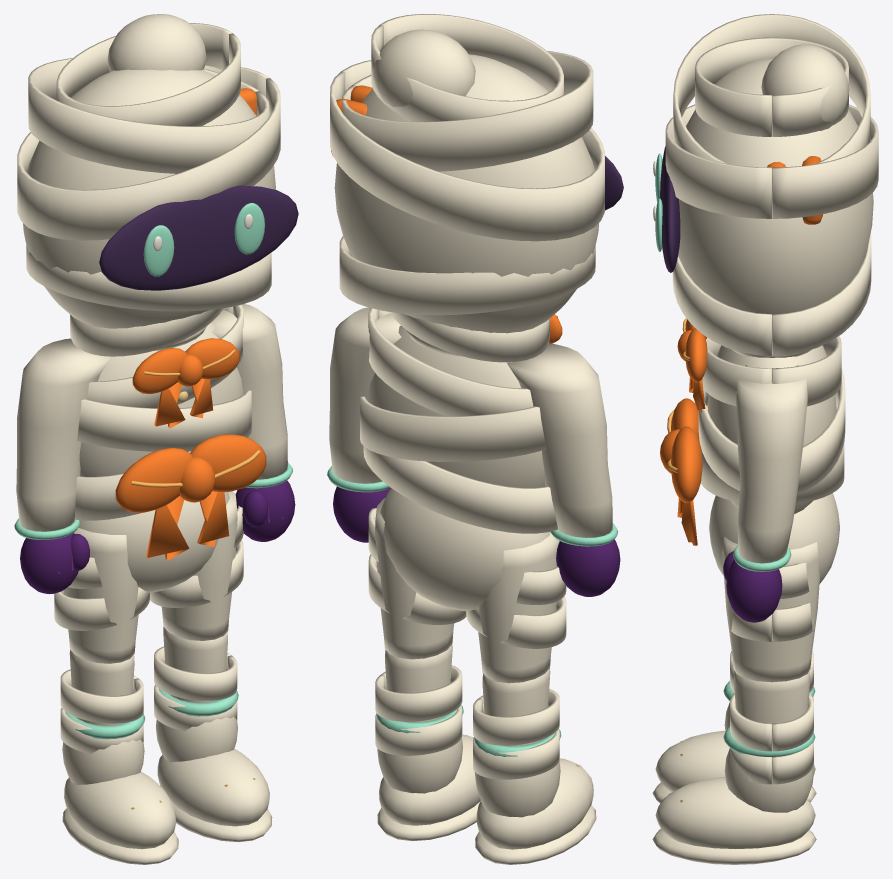
The model's file is A073-NPC05-糖纸木乃伊-精细动作版.glb.
3 renders of one model, left to right at view 1: azimuth 30°, elevation 25°; view 2: azimuth 150°, elevation 25°; view 3: azimuth 270°, elevation 25°, orthographic. The views are drawn at different scales.
Parts seen in each view (by area): view 1: HW_Mesh_Head__cream.004, HW_Mesh_RightFoot__cream.004, HW_Mesh_Chest__cream.004, HW_Mesh_LeftFoot__cream.004, HW_Mesh_Head__night.004, HW_Mesh_Hips__orange.004, HW_Mesh_RightUpperLeg__cream.004, HW_Mesh_RightUpperArm__cream.004, HW_Mesh_LeftUpperLeg__cream.004, HW_Mesh_Chest__orange.004, HW_Mesh_Hips__cream.004, HW_Mesh_LeftUpperArm__cream.004 (+10 smaller); view 2: HW_Mesh_Head__cream.004, HW_Mesh_Chest__cream.004, HW_Mesh_RightFoot__cream.004, HW_Mesh_LeftFoot__cream.004, HW_Mesh_Hips__cream.004, HW_Mesh_RightUpperLeg__cream.004, HW_Mesh_RightUpperArm__cream.004, HW_Mesh_LeftUpperLeg__cream.004, HW_Mesh_LeftUpperArm__cream.004, HW_Mesh_RightLowerArm__cream.004, HW_Mesh_RightHand__purple.003, HW_Mesh_LeftLowerLeg__cream.004 (+8 smaller); view 3: HW_Mesh_Head__cream.004, HW_Mesh_LeftFoot__cream.004, HW_Mesh_Chest__cream.004, HW_Mesh_LeftUpperLeg__cream.004, HW_Mesh_LeftUpperArm__cream.004, HW_Mesh_Hips__cream.004, HW_Mesh_RightFoot__cream.004, HW_Mesh_Hips__orange.004, HW_Mesh_LeftLowerArm__cream.004, HW_Mesh_LeftLowerLeg__cream.004, HW_Mesh_LeftHand__purple.003, HW_Mesh_Head__night.004 (+4 smaller).
Part boxes in pixels (<box>): HW_Mesh_Head__cream.004: <box>17,14,280,356</box>; HW_Mesh_RightFoot__cream.004: <box>60,669,178,864</box>; HW_Mesh_Chest__cream.004: <box>74,304,251,520</box>; HW_Mesh_LeftFoot__cream.004: <box>154,646,272,842</box>; HW_Mesh_Head__night.004: <box>99,185,298,290</box>; HW_Mesh_Hips__orange.004: <box>115,434,266,560</box>; HW_Mesh_RightUpperLeg__cream.004: <box>54,528,149,663</box>; HW_Mesh_RightUpperArm__cream.004: <box>17,338,111,465</box>; HW_Mesh_LeftUpperLeg__cream.004: <box>150,491,243,640</box>; HW_Mesh_Chest__orange.004: <box>132,338,239,428</box>; HW_Mesh_Hips__cream.004: <box>78,492,229,592</box>; HW_Mesh_LeftUpperArm__cream.004: <box>212,304,283,416</box>; HW_Mesh_Head__cream.004: <box>330,14,604,362</box>; HW_Mesh_Chest__cream.004: <box>360,308,557,533</box>; HW_Mesh_RightFoot__cream.004: <box>473,689,596,864</box>; HW_Mesh_LeftFoot__cream.004: <box>375,665,480,840</box>; HW_Mesh_Hips__cream.004: <box>380,488,550,611</box>; HW_Mesh_RightUpperLeg__cream.004: <box>466,532,566,683</box>; HW_Mesh_RightUpperArm__cream.004: <box>507,343,607,474</box>; HW_Mesh_LeftUpperLeg__cream.004: <box>368,498,466,659</box>; HW_Mesh_LeftUpperArm__cream.004: <box>330,307,401,422</box>; HW_Mesh_RightLowerArm__cream.004: <box>544,464,612,537</box>; HW_Mesh_RightHand__purple.003: <box>556,539,620,596</box>; HW_Mesh_LeftLowerLeg__cream.004: <box>385,644,452,722</box>; HW_Mesh_Head__cream.004: <box>665,14,878,356</box>; HW_Mesh_LeftFoot__cream.004: <box>652,693,816,864</box>; HW_Mesh_Chest__cream.004: <box>698,336,845,513</box>; HW_Mesh_LeftUpperLeg__cream.004: <box>722,537,820,682</box>; HW_Mesh_LeftUpperArm__cream.004: <box>736,365,807,497</box>; HW_Mesh_Hips__cream.004: <box>709,493,839,583</box>; HW_Mesh_RightFoot__cream.004: <box>652,651,816,803</box>; HW_Mesh_Hips__orange.004: <box>660,398,702,545</box>; HW_Mesh_LeftLowerArm__cream.004: <box>738,484,797,563</box>; HW_Mesh_LeftLowerLeg__cream.004: <box>733,671,810,723</box>; HW_Mesh_LeftHand__purple.003: <box>723,551,782,622</box>; HW_Mesh_Head__night.004: <box>660,146,680,272</box>.
Bounding box in the file's own units: 0.3636 × 1 × 0.2584.
